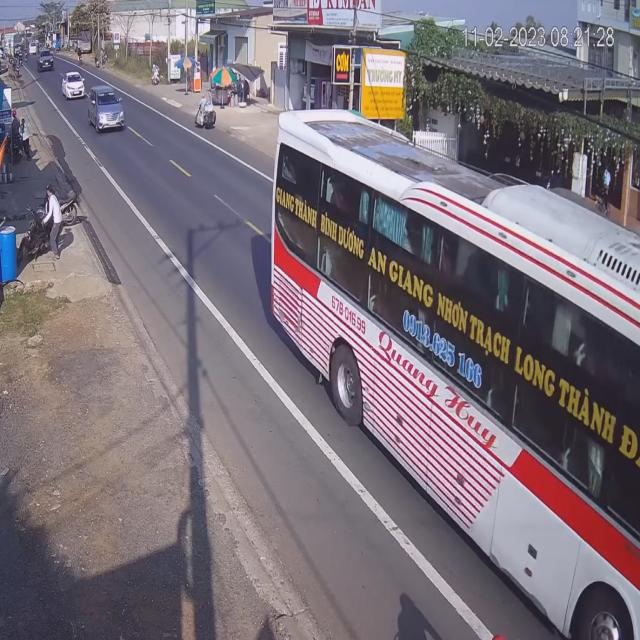bus: (274, 111, 640, 640)
car: (86, 85, 124, 133), (62, 71, 86, 102), (38, 50, 54, 72)
motorbike: (194, 94, 214, 126)
